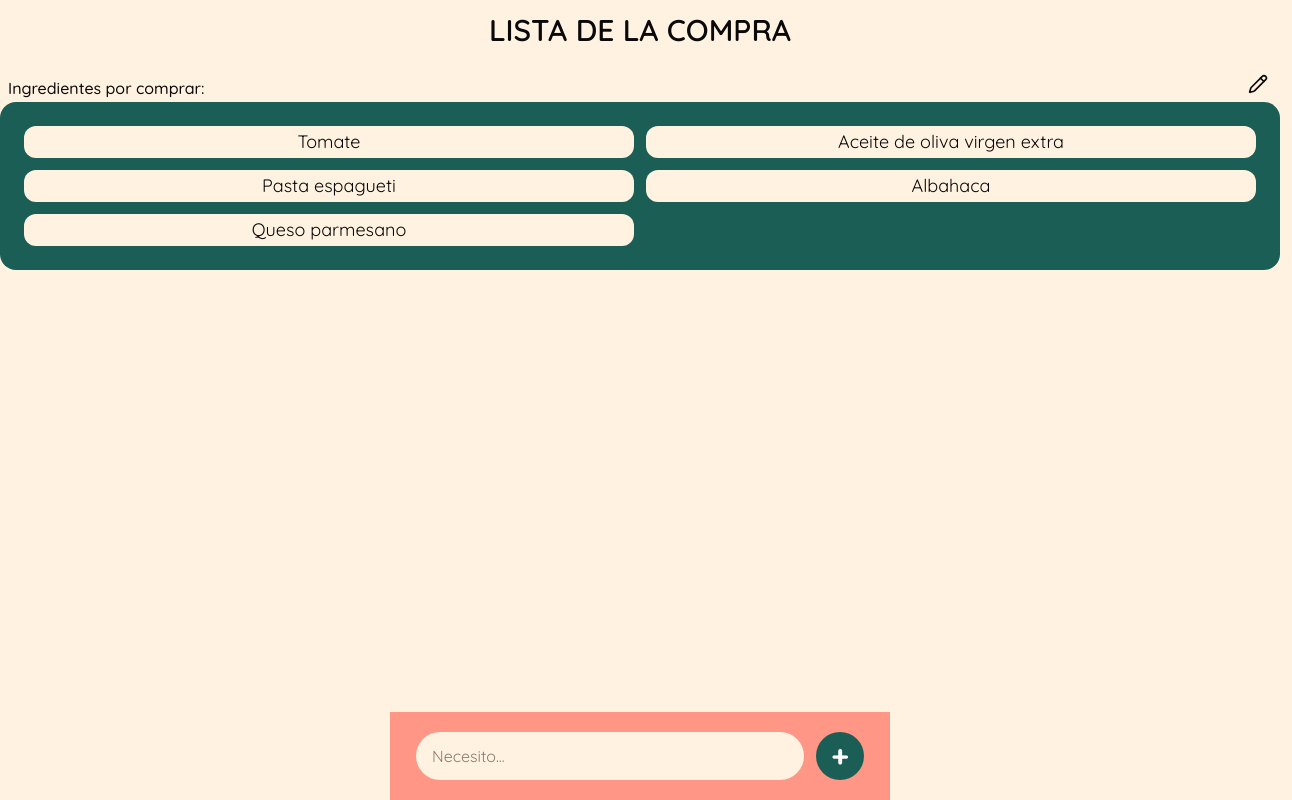
Test: Given the ShoppingListPage component › When it renders › Then it should show duplicate feedback when adding an existing ingredient
Expected: the text "Aceite de oliva virgen extra" is shown, [838,130,1064,153]
Type "Aceite de oliva virgen extra" into the field named "nombre del ingrediente". click: (610, 756)
box: [416,732,804,780]
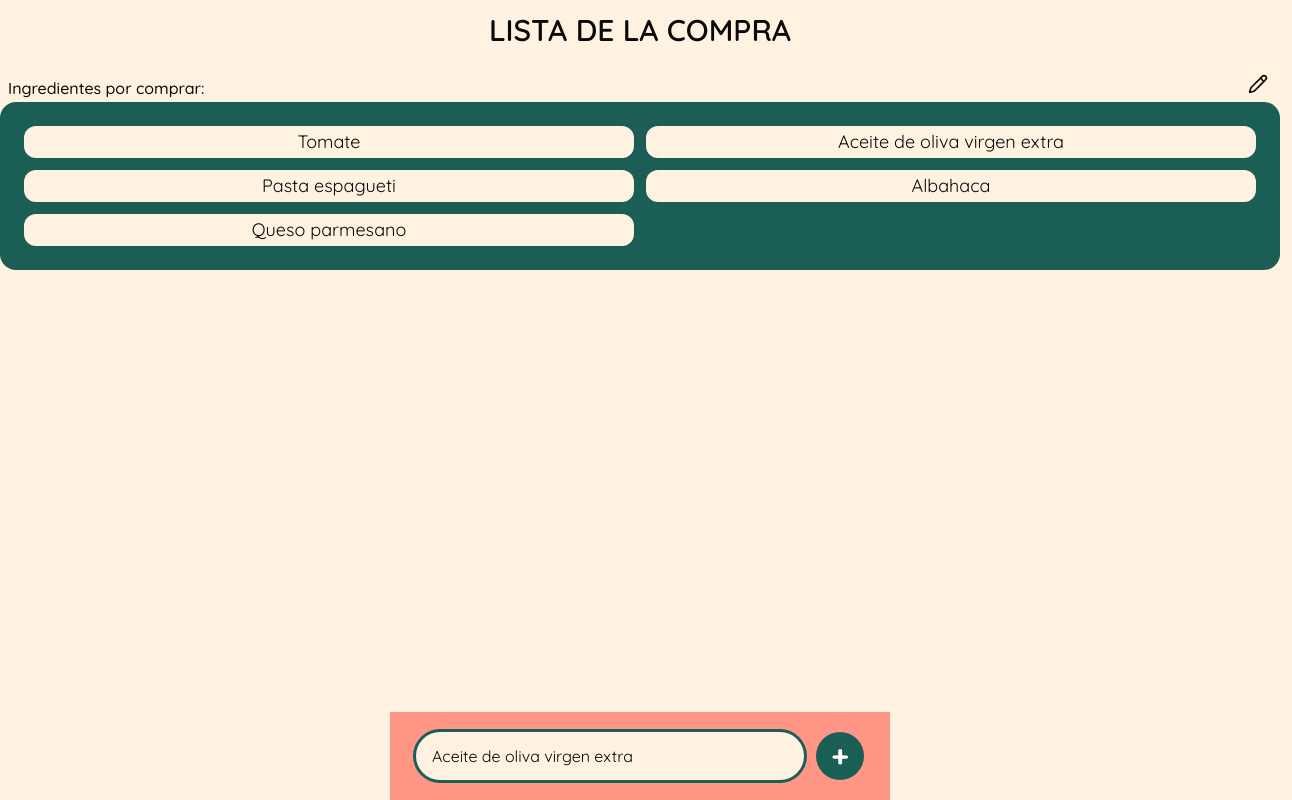
Click the button named "añadir ingrediente". click: (840, 756)
box: [816,732,864,780]
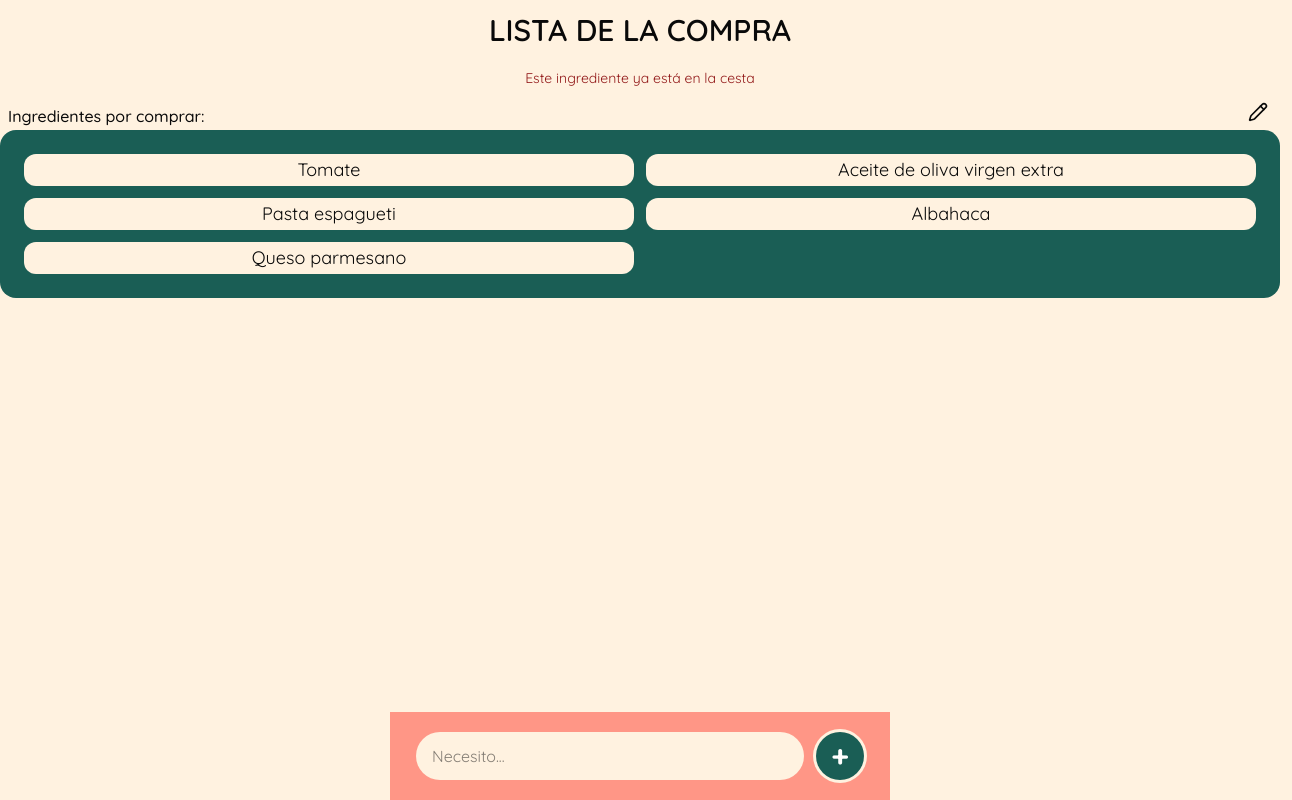
Expected: the text "Este ingrediente ya está en la cesta" is shown, [525,69,755,87]
